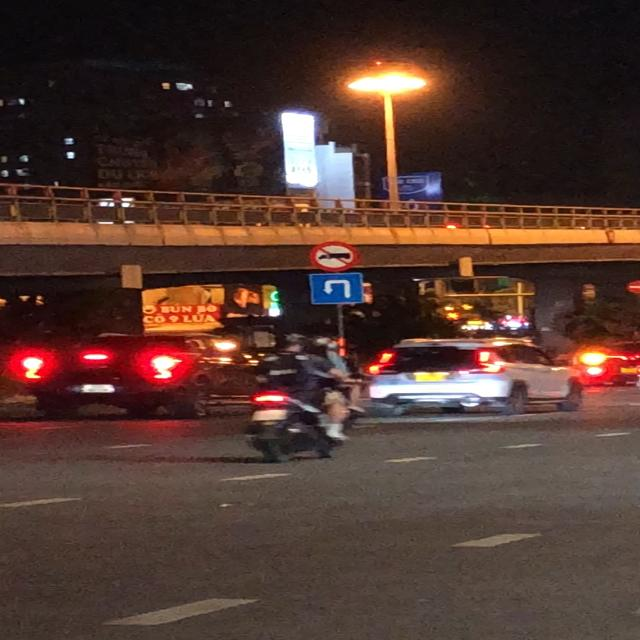Bien bao cam xe so-mi ro-mooc: (306, 240, 363, 273)
